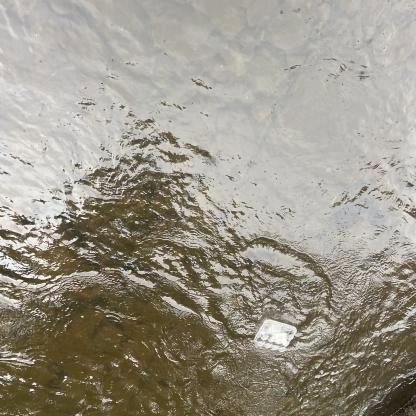Plastic: (250, 315, 300, 357)
